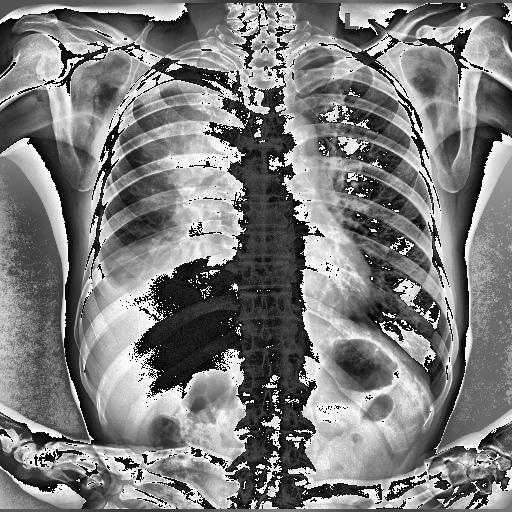10- Pleural effusion: (80, 232, 240, 326), (85, 230, 148, 301), (78, 248, 136, 315)
11- Pleural thickening: (123, 52, 239, 112), (119, 59, 237, 107)
4- Consolidation: (138, 86, 241, 270), (139, 100, 246, 265)
7- Lung Opacity: (138, 86, 241, 270), (132, 72, 236, 242), (139, 100, 246, 265), (119, 59, 237, 107)
